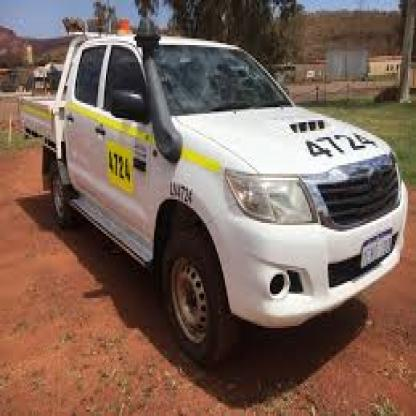light_vehicle: (22, 17, 413, 371)
